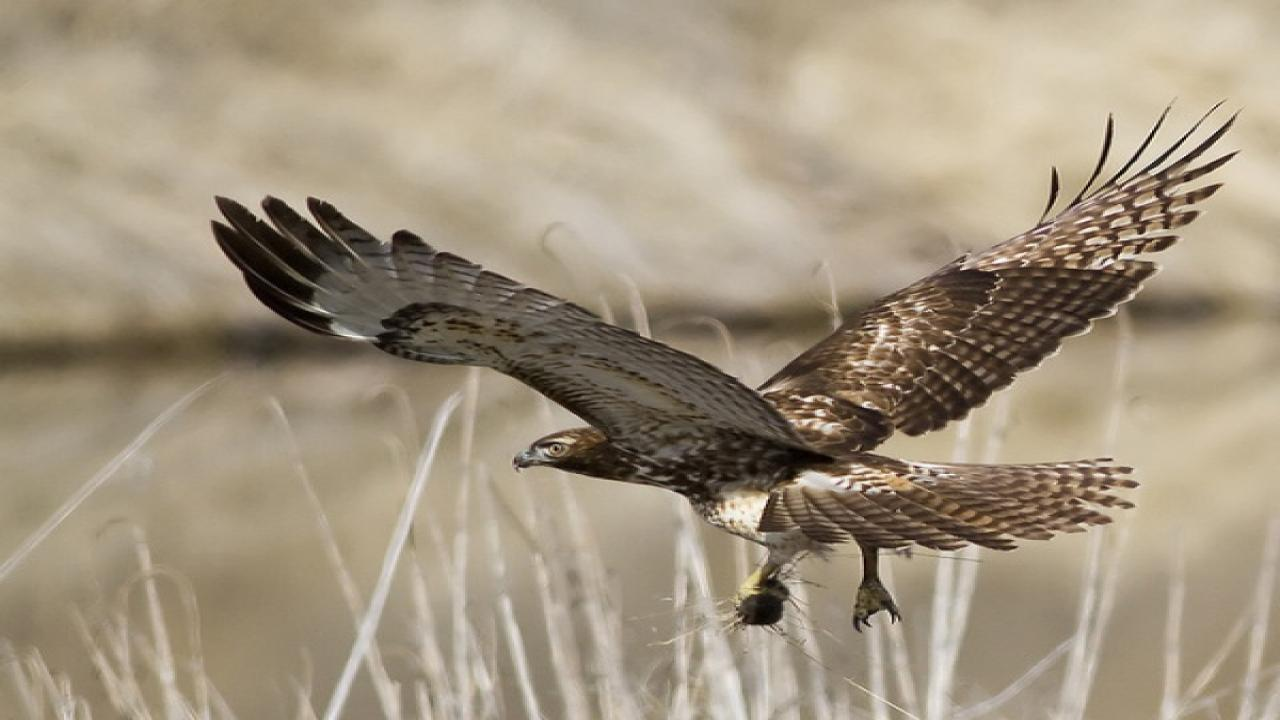Bird: (190, 90, 1258, 641)
